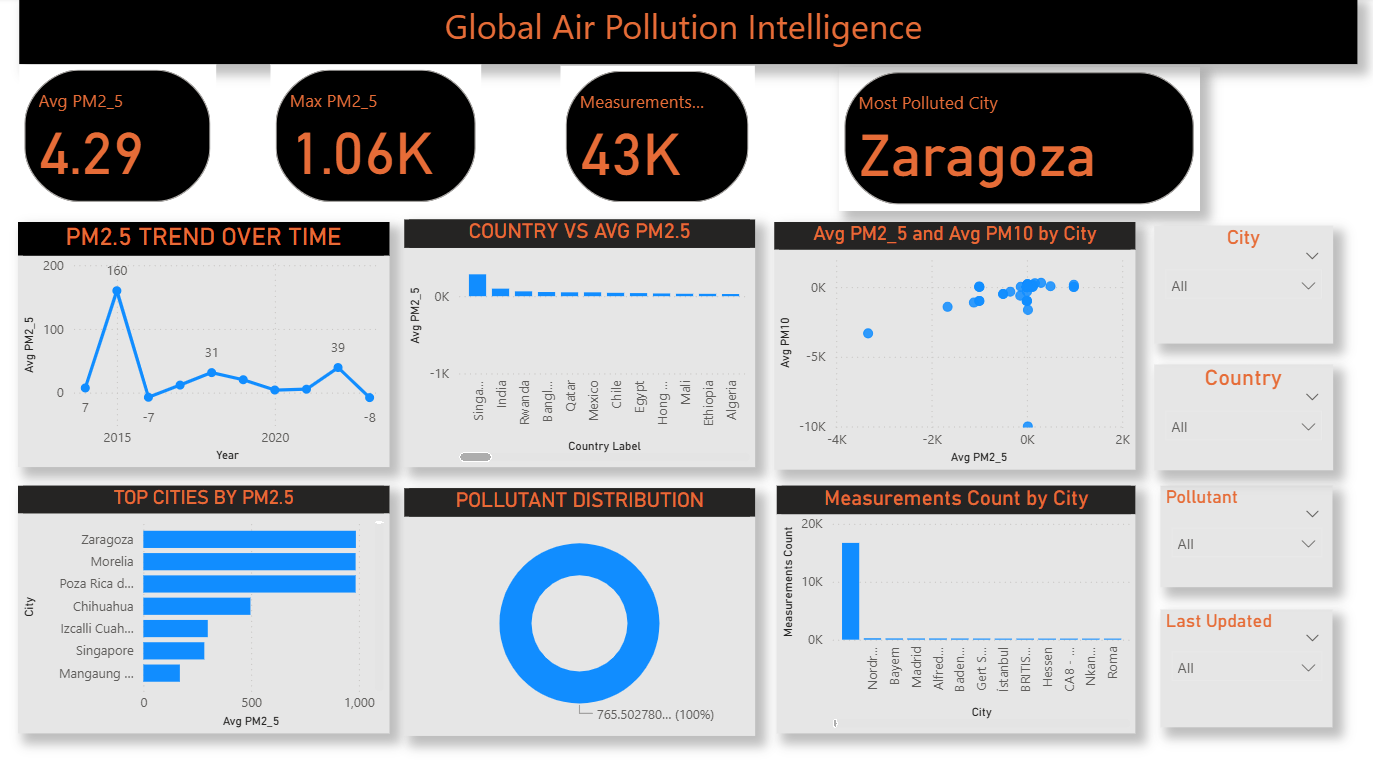

This screenshot's page, from the dashboard's own definition file:
{"tool":"powerbi","page":{"name":"Page 1","canvas":[1280,720],"ordinal":0},"visuals":[{"type":"textbox","box":[19.4,0,1244.8,62.7],"z":0},{"type":"cardVisual","fields":{"Data":["world_air_quality_with_locations.Avg PM2_5"]},"box":[20,63.3,183.3,133.3],"z":1},{"type":"cardVisual","fields":{"Data":["world_air_quality_with_locations.Measurements Count"]},"box":[523.1,63.5,180.8,132.7],"z":2},{"type":"cardVisual","fields":{"Data":["world_air_quality_with_locations.Most Polluted City"]},"box":[782.4,64.7,335.3,133.3],"z":3},{"type":"cardVisual","fields":{"Data":["world_air_quality_with_locations.Max PM2_5"]},"box":[252.9,62.7,196.1,133.3],"z":4},{"type":"lineChart","title":"PM2.5 TREND OVER TIME","fields":{"Category":["world_air_quality_with_locations.Last Updated.Variation.Date Hierarchy.Year","world_air_quality_with_locations.Last Updated.Variation.Date Hierarchy.Quarter","world_air_quality_with_locations.Last Updated.Variation.Date Hierarchy.Month","world_air_quality_with_locations.Last Updated.Variation.Date Hierarchy.Day"],"Y":["world_air_quality_with_locations.Avg PM2_5"]},"box":[18.9,209.4,345.3,228.3],"z":5},{"type":"barChart","title":"TOP CITIES BY PM2.5","fields":{"Y":["world_air_quality_with_locations.Avg PM2_5"],"Category":["world_air_quality_with_locations.City"]},"box":[18.9,454.7,345.3,230.2],"z":6},{"type":"columnChart","title":"COUNTRY VS AVG PM2.5","fields":{"Category":["world_air_quality_with_locations.Country Label"],"Y":["world_air_quality_with_locations.Avg PM2_5"]},"box":[377.4,207.5,326.4,230.2],"z":7},{"type":"donutChart","title":"POLLUTANT DISTRIBUTION","fields":{"Y":["world_air_quality_with_locations.Avg Pollutant Value"]},"box":[377.4,456.6,326.4,230.2],"z":8},{"type":"columnChart","fields":{"Category":["world_air_quality_with_locations.City"],"Y":["world_air_quality_with_locations.Measurements Count"]},"box":[724.5,454.7,334,230.2],"z":9},{"type":"scatterChart","fields":{"X":["world_air_quality_with_locations.Avg PM2_5"],"Y":["world_air_quality_with_locations.Avg PM10"],"Category":["world_air_quality_with_locations.City"]},"box":[722.6,209.4,335.8,230.2],"z":10},{"type":"slicer","title":"Last Updated","fields":{"Values":["world_air_quality_with_locations.Last Updated"]},"box":[1081.1,569.8,160.4,109.4],"z":11},{"type":"slicer","title":"Pollutant","fields":{"Values":["world_air_quality_with_locations.Pollutant"]},"box":[1081.1,454.7,160.4,94.3],"z":12},{"type":"slicer","title":"Country","fields":{"Values":["world_air_quality_with_locations.Country Label"]},"box":[1075.5,341.5,166,98.1],"z":13},{"type":"slicer","title":"City","fields":{"Values":["world_air_quality_with_locations.City"]},"box":[1075.5,213.2,166,109.4],"z":14}]}

Visuals, with their boxes in screenshot pixels (x1, y1, x2, y2), scaled from the page's 1280x720 canvas onto the 1373x770 screenshot:
textbox: 21/0/1356/67
cardVisual - world_air_quality_with_locations.Avg PM2_5: 21/68/218/210
cardVisual - world_air_quality_with_locations.Measurements Count: 561/68/755/210
cardVisual - world_air_quality_with_locations.Most Polluted City: 839/69/1199/212
cardVisual - world_air_quality_with_locations.Max PM2_5: 271/67/482/210
"PM2.5 TREND OVER TIME" lineChart: 20/224/391/468
"TOP CITIES BY PM2.5" barChart: 20/486/391/732
"COUNTRY VS AVG PM2.5" columnChart: 405/222/755/468
"POLLUTANT DISTRIBUTION" donutChart: 405/488/755/734
columnChart - world_air_quality_with_locations.City x world_air_quality_with_locations.Measurements Count: 777/486/1135/732
scatterChart - world_air_quality_with_locations.Avg PM2_5 x world_air_quality_with_locations.Avg PM10: 775/224/1135/470
"Last Updated" slicer: 1160/609/1332/726
"Pollutant" slicer: 1160/486/1332/587
"Country" slicer: 1154/365/1332/470
"City" slicer: 1154/228/1332/345
